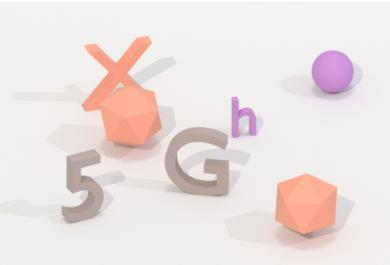0-Tron: (308, 47, 357, 98)
0-TronCanh: (272, 169, 343, 238), (98, 81, 165, 150)
5: (58, 144, 107, 225)
G: (161, 124, 235, 202)
X: (80, 33, 154, 115)
h: (227, 90, 261, 143)
